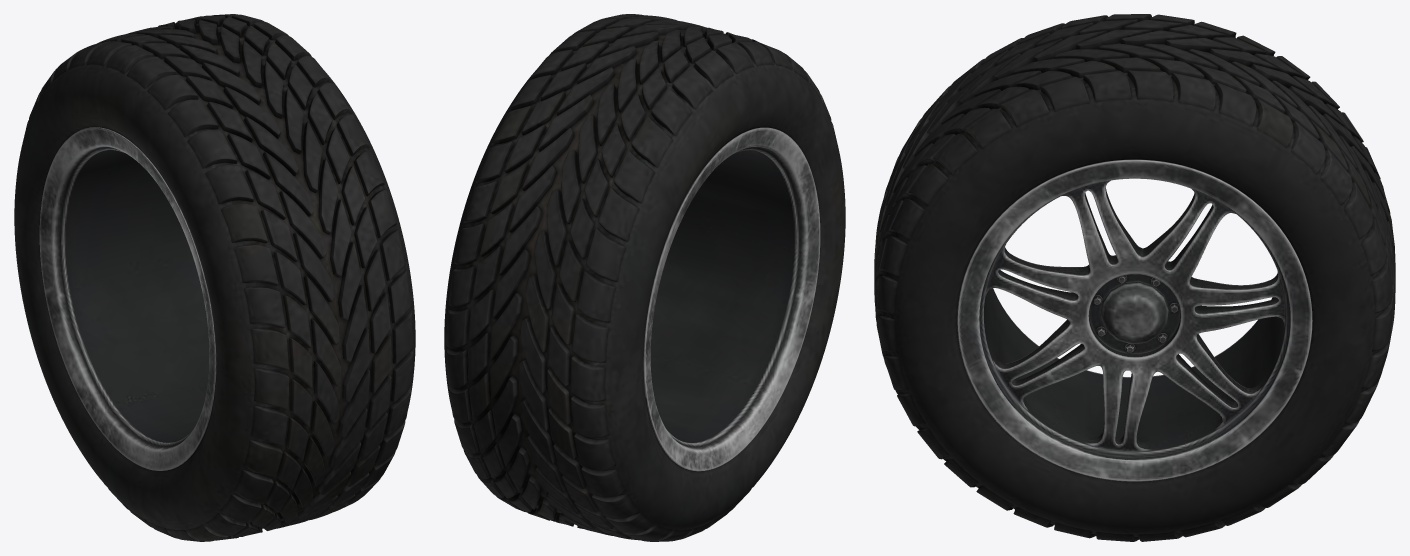
Rendered from car_tyre.glb.
3 views of the same model, side by side, from view 1: azimuth 30°, elevation 25°; view 2: azimuth 150°, elevation 25°; view 3: azimuth 270°, elevation 25° (orthographic).
Visible parts, largest first — view 1: Object_4, Object_2; view 2: Object_4, Object_2; view 3: Object_4, Object_2.
Boxes of the visible parts, box(x1,y1,x2,y2) form: Object_4: box(14, 14, 415, 541); Object_2: box(39, 127, 216, 470); Object_4: box(444, 14, 845, 541); Object_2: box(643, 127, 820, 471); Object_4: box(874, 14, 1395, 541); Object_2: box(957, 159, 1312, 481).
Size of the model in its own units: 46 by 111 by 111.
2 materials, 2 textured.
